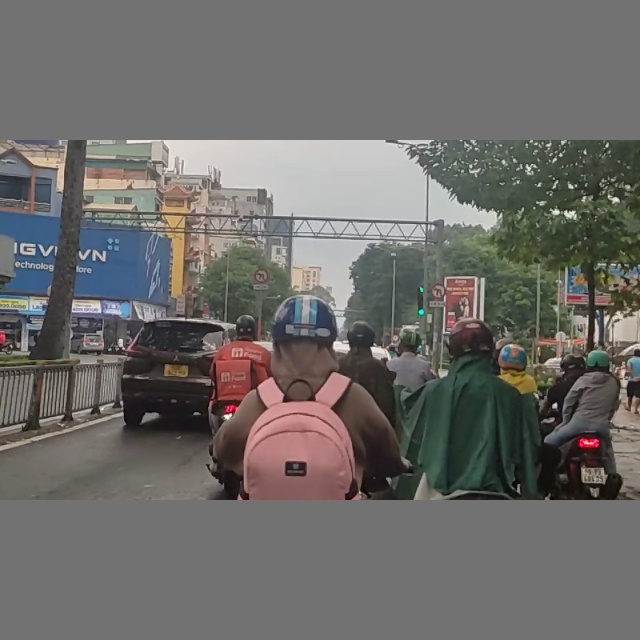P.124c: (252, 267, 269, 283), (431, 284, 447, 299)
